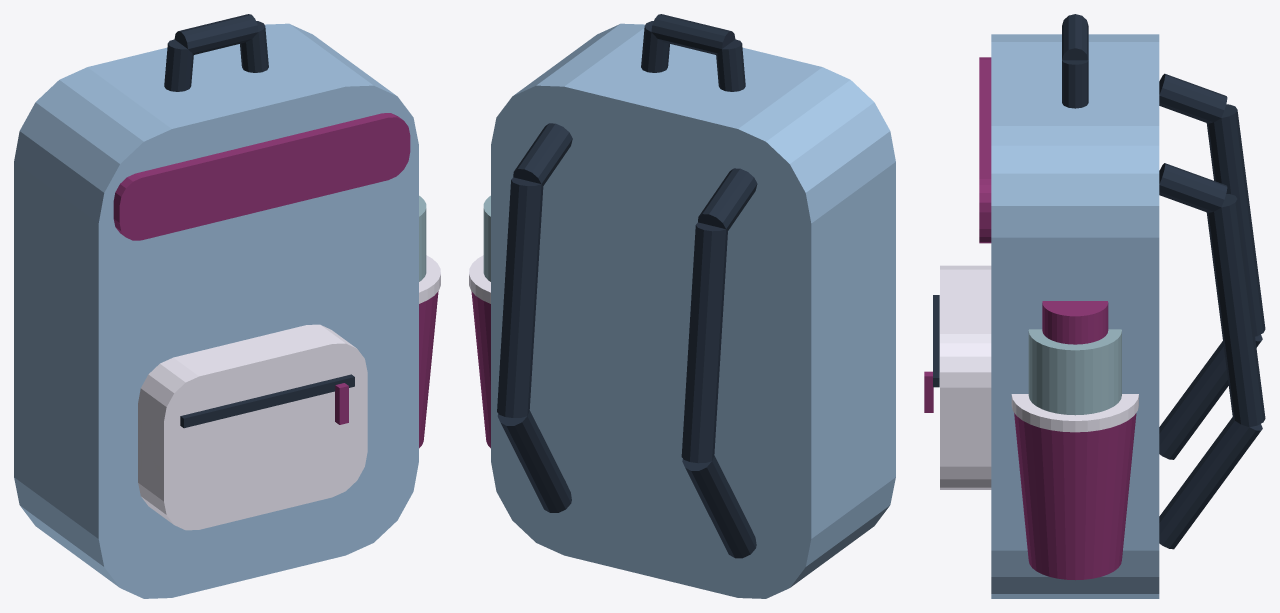
The model's file is backpack.glb.
The picture shows the model from 3 angles, left to right: view 1: azimuth 30°, elevation 25°; view 2: azimuth 150°, elevation 25°; view 3: azimuth 270°, elevation 25°; orthographic projection.
Visible parts, largest first — view 1: fabric shell, front pocket, lid binding, zip, carry loop1, side pocket, carry loop0, carry loop2, pocket rim, bottle neck, zip pull; view 2: fabric shell, strap -0.341, strap 0.341, strap -0.342, strap 0.342, carry loop1, strap -0.340, strap 0.340, side pocket, carry loop0, carry loop2, pocket rim (+1 smaller); view 3: fabric shell, side pocket, front pocket, strap 0.341, bottle neck, strap 0.342, strap -0.341, strap -0.342, cap, pocket rim, lid binding, strap -0.340 (+4 smaller).
Boxes of the visible parts, <box> form: fabric shell: <box>14,23,418,598</box>; front pocket: <box>138,324,367,530</box>; lid binding: <box>113,113,410,240</box>; zip: <box>180,374,354,428</box>; carry loop1: <box>174,14,258,54</box>; side pocket: <box>419,291,438,448</box>; carry loop0: <box>164,39,193,91</box>; carry loop2: <box>240,21,268,72</box>; pocket rim: <box>419,255,440,303</box>; bottle neck: <box>419,195,426,281</box>; zip pull: <box>335,383,348,424</box>; fabric shell: <box>491,23,895,598</box>; strap -0.341: <box>681,222,727,463</box>; strap 0.341: <box>497,177,543,417</box>; strap -0.342: <box>682,455,756,558</box>; strap 0.342: <box>497,410,571,512</box>; carry loop1: <box>651,14,735,54</box>; strap -0.340: <box>698,168,757,230</box>; strap 0.340: <box>513,123,572,185</box>; side pocket: <box>471,291,490,448</box>; carry loop0: <box>716,39,745,91</box>; carry loop2: <box>641,21,669,72</box>; pocket rim: <box>469,255,490,303</box>; fabric shell: <box>991,34,1159,598</box>; side pocket: <box>1014,413,1136,580</box>; front pocket: <box>940,265,991,489</box>; strap 0.341: <box>1206,194,1265,427</box>; bottle neck: <box>1028,329,1121,415</box>; strap 0.342: <box>1159,417,1262,549</box>; strap -0.341: <box>1206,104,1265,336</box>; strap -0.342: <box>1159,334,1262,459</box>; cap: <box>1042,301,1108,344</box>; pocket rim: <box>1011,394,1138,432</box>; lid binding: <box>979,57,991,243</box>; strap -0.340: <box>1159,73,1227,123</box>.
Bounding box in the file's own units: 1.38 × 1.84 × 1.1.
